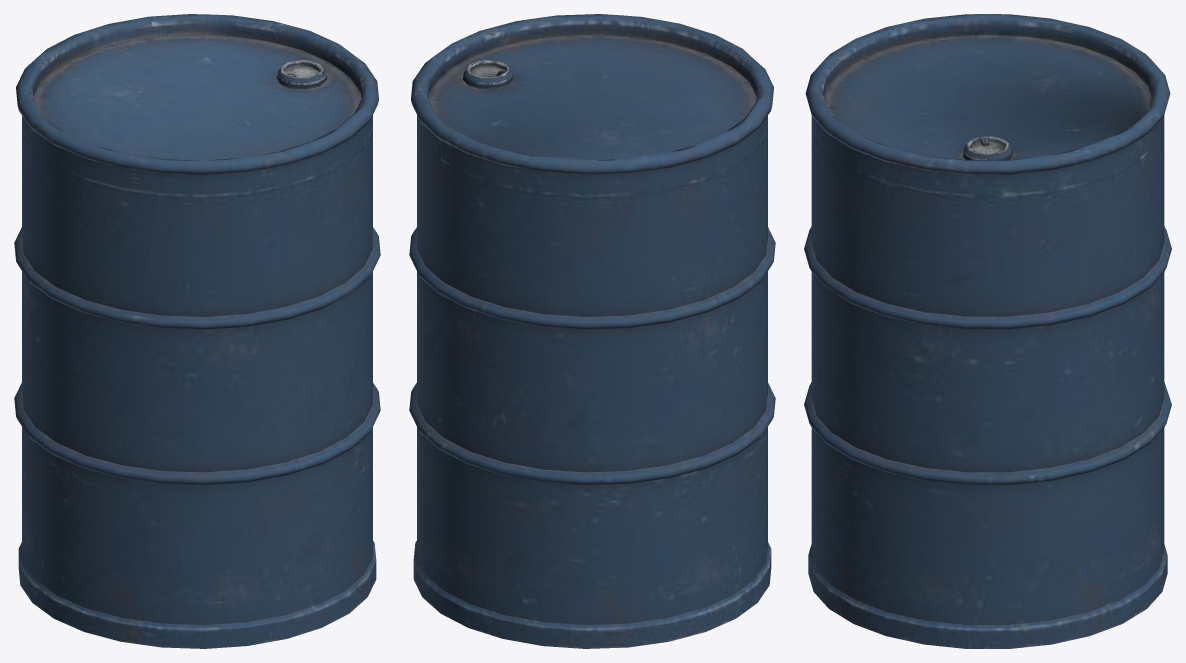
Rendered from barrel_blue.glb.
The picture shows the model from 3 angles, left to right: view 1: azimuth 30°, elevation 25°; view 2: azimuth 150°, elevation 25°; view 3: azimuth 270°, elevation 25°; orthographic projection.
Visible parts, largest first — view 1: barrel_03; view 2: barrel_03; view 3: barrel_03.
Boxes of the visible parts, bbox=[...] form: barrel_03: bbox=[14, 14, 380, 648]; barrel_03: bbox=[409, 14, 775, 648]; barrel_03: bbox=[804, 14, 1171, 648].
Bounding box in the file's own units: 0.6339 × 0.9307 × 0.6386.
1 material, 1 textured.
